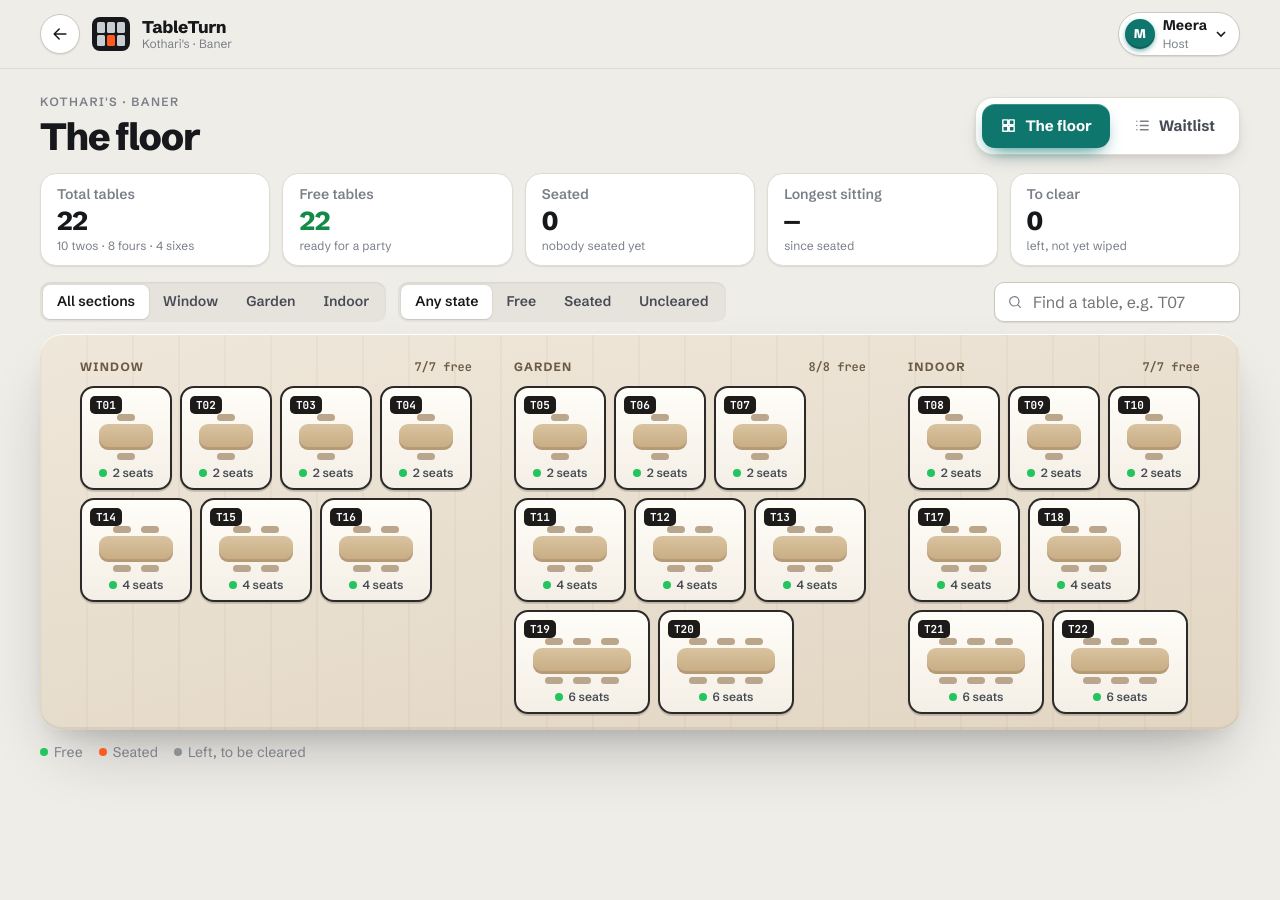
Test case: F-04 · Finding one table › typing T99 (or 99) opens a drawer saying "No such table" and "Branch Baner has no table T99. Tables run from T01 to T22."
Type "T99" into the field named "Table number" at (1129, 302), box [1031,289,1227,315]
Then press Enter
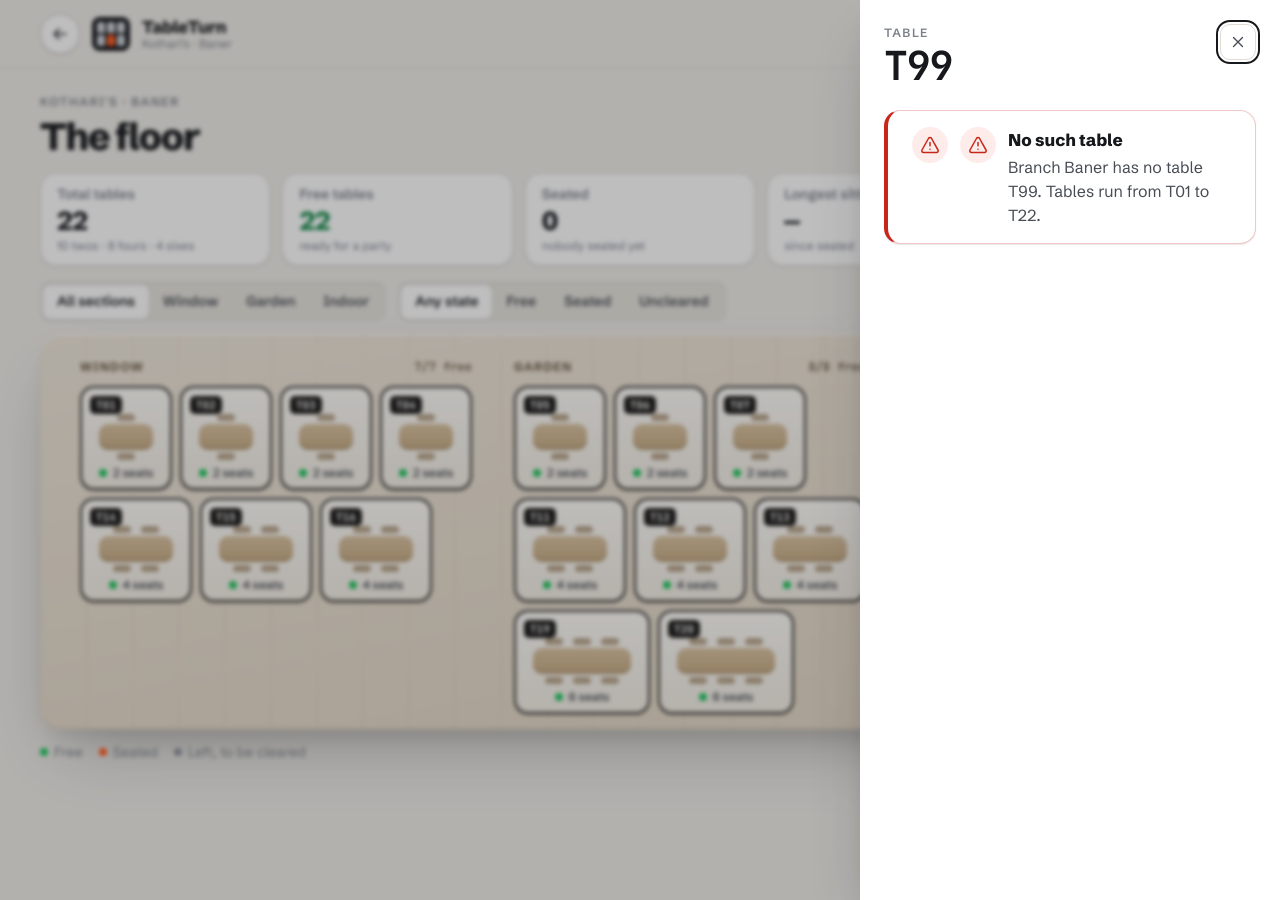
Expected: the heading "T99" is shown, [884,46,952,86]
Expected: the text "No such table" is shown, [1008,129,1123,150]
Expected: the text "Branch Baner has no table T99. Tables run from T01 to T22." is shown, [1008,154,1231,226]
Click the button named "Close" at (1238, 42), box [1220,24,1256,60]
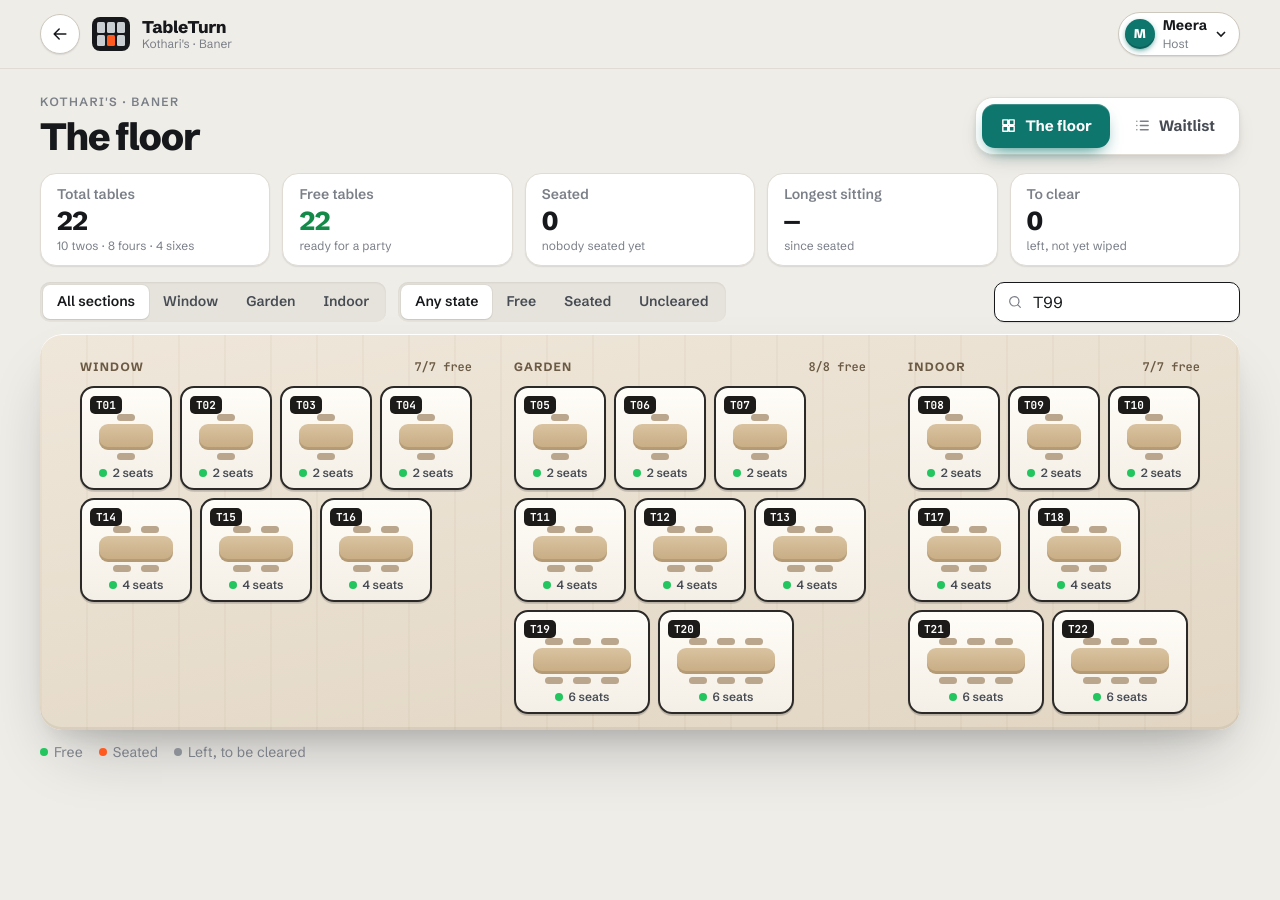
Replace the text in the field named "Table number" with "99" at (1129, 302), box [1031,289,1227,315]
Then press Enter
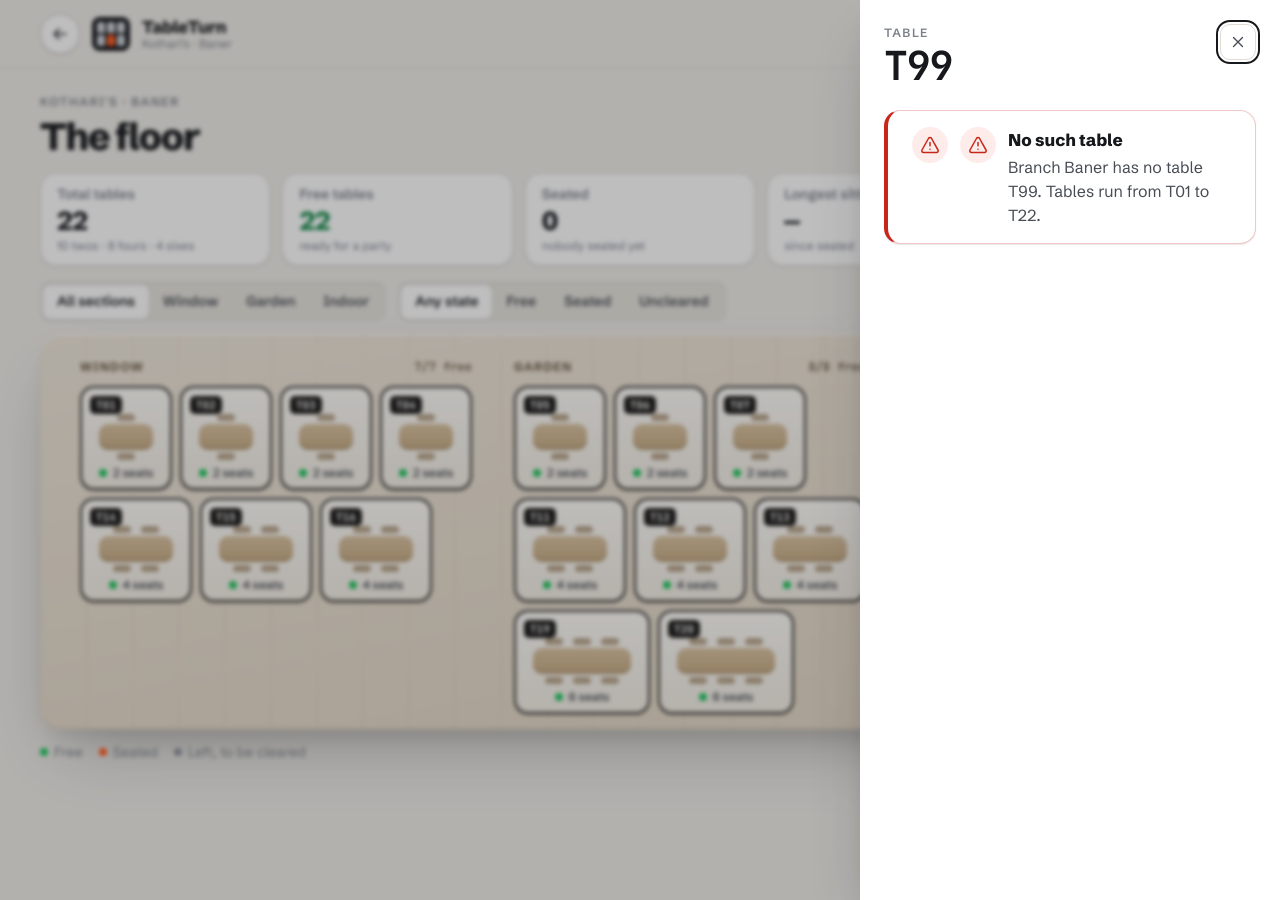
Expected: the text "No such table" is shown, [1008,129,1123,150]
